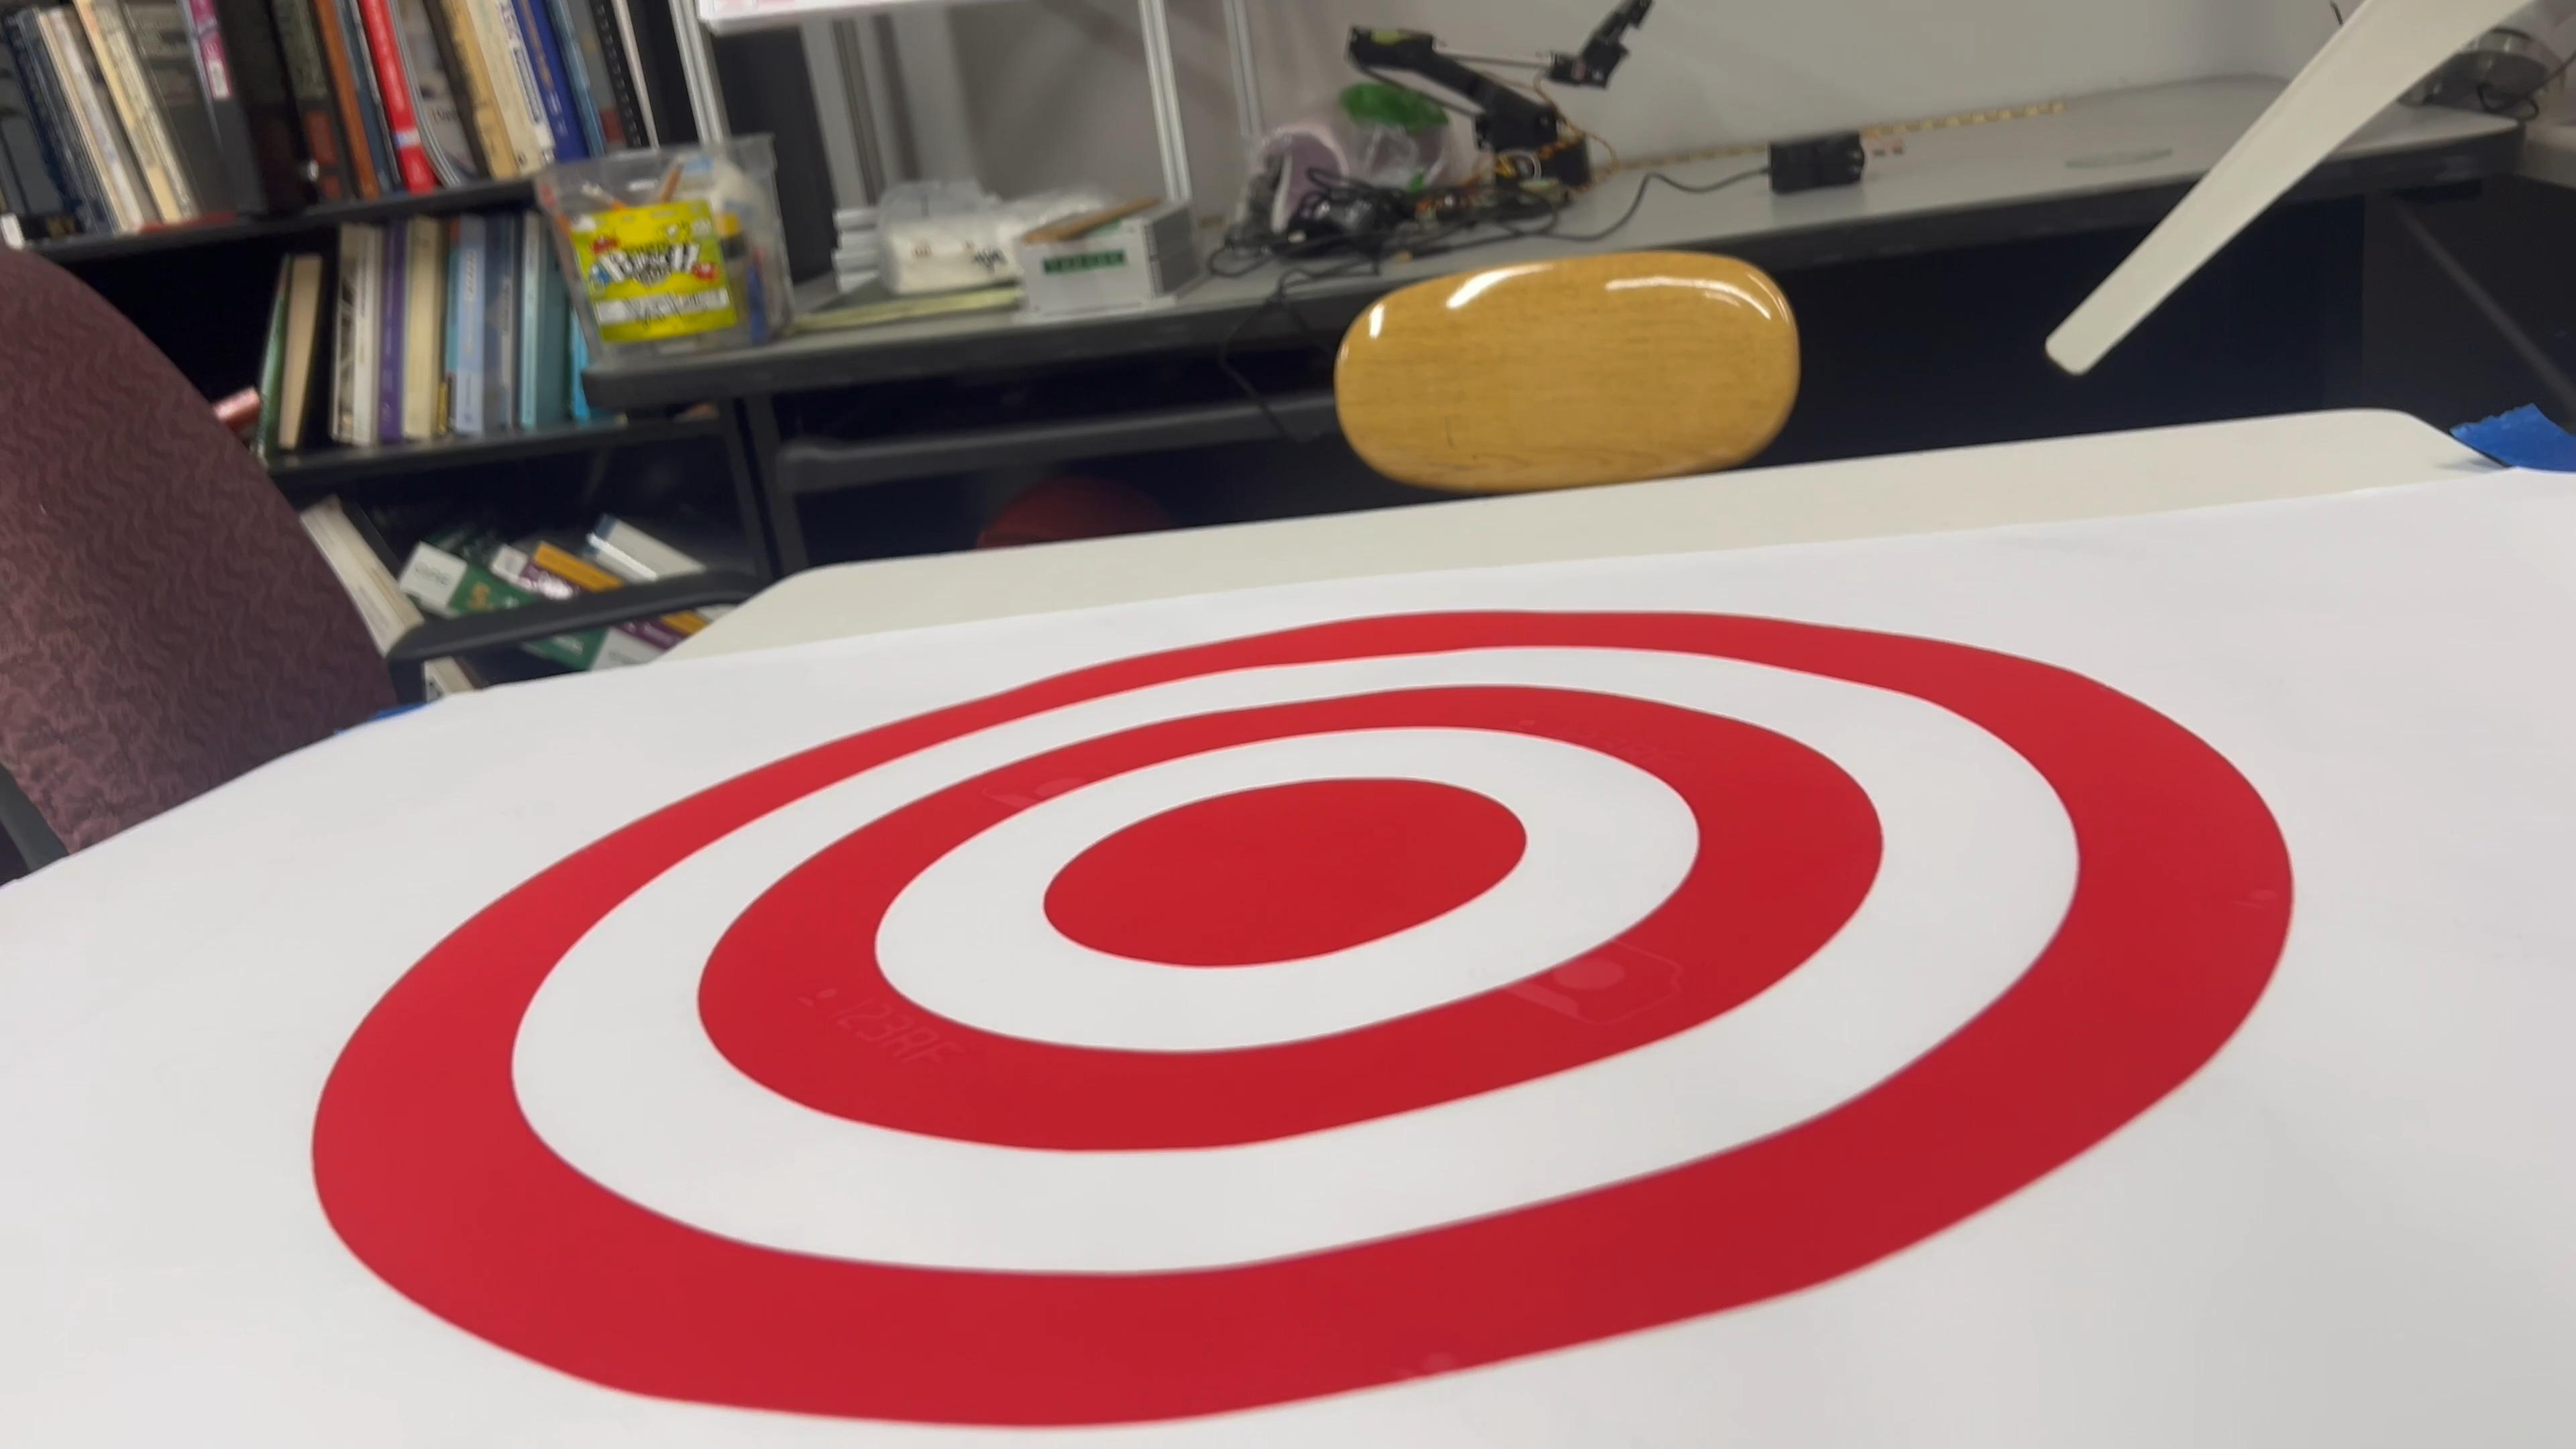target_red: (246, 605, 2314, 1449)
